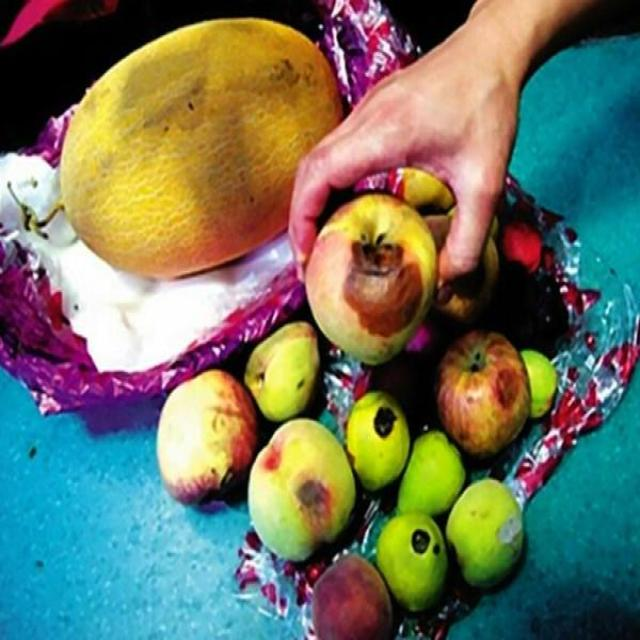Wet: (158, 164, 561, 639), (56, 11, 346, 281)
